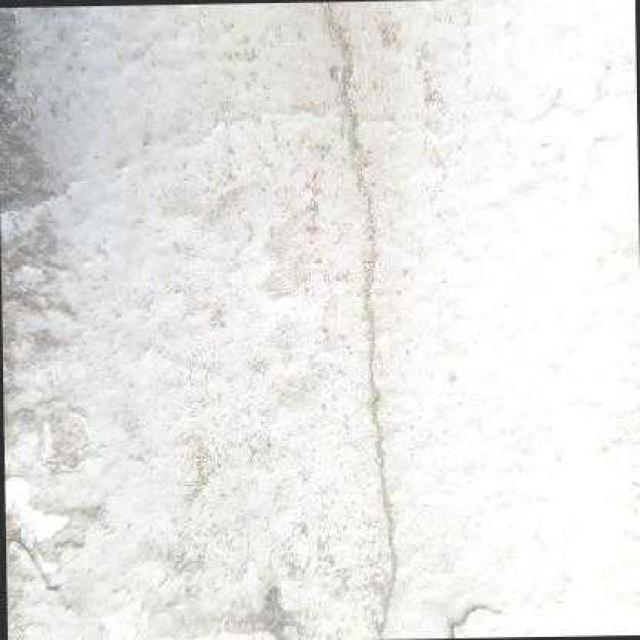D00: (315, 0, 398, 639)
